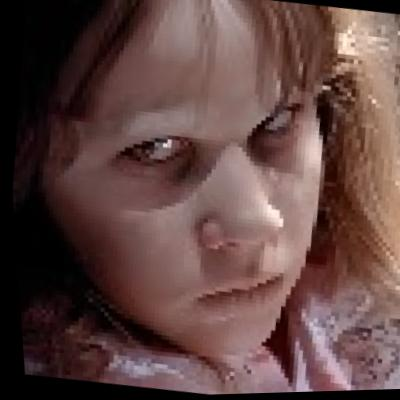angry: (43, 0, 347, 353)
